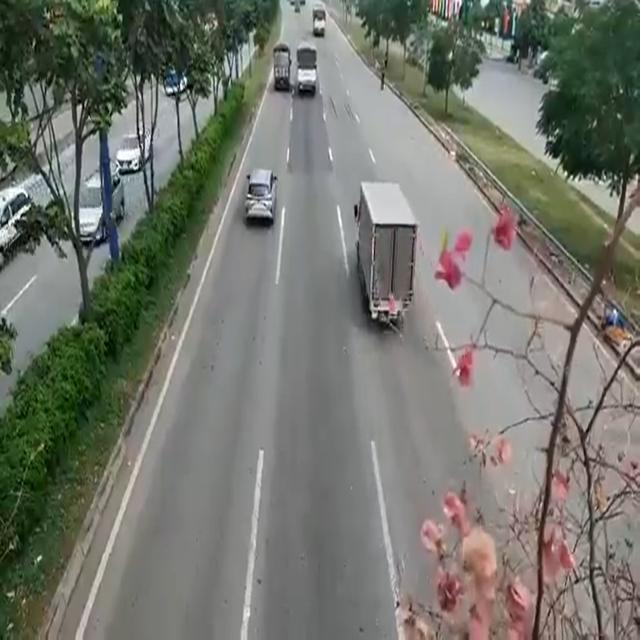car: (75, 180, 119, 236), (248, 156, 273, 226)
truck: (356, 178, 415, 338), (294, 30, 319, 111), (276, 38, 289, 92)
